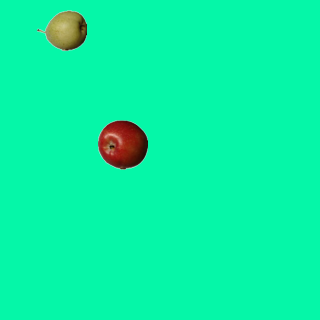Apple Braeburn: (97, 119, 147, 169)
Pear: (36, 5, 86, 55)
